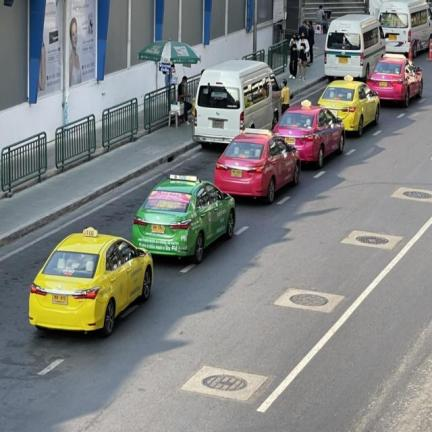human: (178, 76, 191, 124), (298, 33, 308, 80), (290, 34, 298, 78), (316, 5, 328, 32), (281, 78, 290, 113), (308, 20, 314, 64), (299, 20, 307, 34)
taxi: (29, 227, 153, 335), (132, 175, 235, 263), (215, 129, 300, 202), (274, 101, 344, 168), (318, 76, 379, 136), (368, 54, 422, 107)
van: (192, 60, 280, 146), (325, 14, 385, 80), (379, 0, 431, 57)
